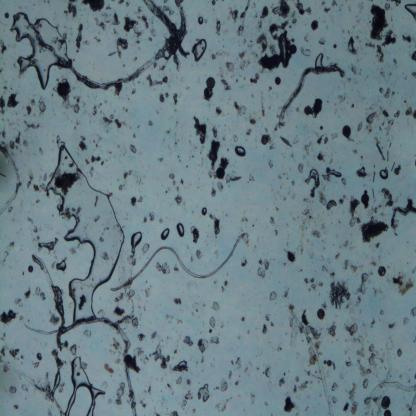Air bubble: (48, 137, 125, 314), (11, 10, 74, 88), (65, 358, 104, 414), (306, 167, 323, 190), (324, 164, 346, 181), (191, 39, 207, 62), (128, 229, 144, 250), (54, 256, 68, 274), (404, 1, 416, 21), (234, 143, 248, 159), (176, 223, 188, 239), (379, 166, 391, 182), (160, 228, 172, 240), (195, 15, 206, 28), (314, 54, 324, 68), (198, 206, 209, 217)
Background material: (290, 307, 338, 412), (258, 29, 302, 70), (365, 4, 399, 45), (361, 216, 390, 245), (52, 169, 82, 197), (353, 339, 373, 379), (148, 344, 174, 372), (327, 252, 356, 277), (373, 186, 396, 217), (343, 378, 361, 414), (330, 282, 353, 310), (235, 5, 253, 40), (378, 102, 400, 130), (24, 172, 48, 196), (391, 272, 414, 297), (303, 95, 325, 120), (0, 239, 19, 267), (191, 115, 208, 146), (53, 79, 74, 103), (354, 270, 372, 297), (301, 274, 324, 293), (304, 321, 322, 345), (207, 137, 221, 167), (211, 397, 239, 411), (144, 72, 170, 87), (233, 44, 248, 70), (297, 218, 308, 253), (256, 256, 272, 280), (272, 1, 292, 20), (61, 0, 80, 20), (102, 112, 122, 131), (81, 0, 108, 14), (114, 36, 131, 58), (114, 380, 127, 408), (128, 348, 143, 372), (266, 19, 290, 34), (291, 374, 309, 394), (37, 236, 59, 252), (75, 21, 85, 56), (347, 32, 361, 56), (123, 15, 140, 34), (6, 92, 22, 110), (344, 322, 362, 338), (108, 338, 121, 360), (354, 162, 369, 181), (196, 382, 211, 401), (0, 310, 17, 326), (29, 350, 44, 368), (23, 118, 42, 132), (139, 13, 153, 32), (367, 343, 377, 369), (142, 208, 158, 224), (93, 15, 109, 31), (212, 216, 223, 239), (378, 84, 392, 102), (35, 284, 48, 303), (171, 360, 190, 373), (233, 101, 249, 116), (155, 260, 172, 274), (297, 202, 310, 220), (224, 173, 245, 184), (375, 143, 387, 162), (181, 335, 196, 350), (12, 294, 26, 310), (89, 154, 105, 168), (196, 336, 210, 352), (258, 131, 274, 145), (347, 198, 361, 214), (376, 44, 387, 64), (7, 347, 22, 361), (294, 4, 309, 18), (303, 135, 313, 156), (181, 390, 193, 407), (122, 168, 139, 180), (0, 35, 10, 55), (110, 10, 121, 28), (283, 396, 297, 410), (326, 198, 340, 212), (366, 110, 380, 124), (316, 132, 331, 145), (249, 70, 261, 86), (284, 246, 296, 262), (222, 77, 233, 94), (322, 357, 335, 371), (129, 194, 140, 210), (264, 312, 275, 328), (260, 94, 267, 119), (220, 278, 232, 292), (259, 7, 271, 21), (126, 142, 140, 154), (224, 60, 236, 74), (404, 104, 416, 118), (104, 361, 114, 377), (81, 327, 94, 339), (277, 375, 288, 389), (300, 44, 314, 55), (220, 153, 231, 167), (212, 300, 223, 314), (113, 78, 122, 95), (214, 19, 224, 34), (339, 189, 349, 204), (174, 296, 186, 308), (171, 90, 179, 108), (192, 225, 200, 243), (116, 0, 132, 9), (247, 392, 259, 404), (329, 322, 337, 340), (309, 228, 321, 240), (210, 50, 222, 62), (37, 100, 48, 113), (236, 213, 249, 224), (318, 36, 329, 49), (401, 32, 414, 43), (239, 256, 249, 270), (317, 191, 327, 205), (268, 289, 278, 303), (395, 163, 404, 178), (316, 151, 327, 163), (210, 334, 221, 346), (219, 382, 231, 393), (0, 94, 6, 116), (173, 194, 184, 206), (72, 102, 82, 115), (388, 320, 398, 333), (168, 173, 177, 187), (194, 248, 203, 262), (296, 163, 305, 177), (78, 140, 89, 151), (206, 170, 217, 181), (157, 93, 168, 104), (262, 366, 273, 377), (340, 236, 350, 248), (101, 248, 109, 263), (155, 153, 165, 165), (144, 115, 154, 127), (50, 312, 59, 325), (137, 329, 146, 342), (261, 320, 268, 336), (0, 126, 8, 140), (208, 316, 216, 330), (370, 314, 378, 328), (396, 347, 404, 361), (90, 102, 97, 118), (351, 64, 361, 75), (214, 106, 224, 117), (9, 384, 18, 396), (116, 303, 125, 315), (345, 359, 354, 371), (15, 132, 24, 144), (311, 20, 320, 32), (393, 108, 402, 120), (150, 327, 158, 340), (2, 363, 10, 376), (282, 283, 290, 296), (129, 288, 137, 301), (338, 94, 346, 107), (349, 217, 359, 227), (402, 315, 411, 326), (27, 262, 35, 274), (272, 228, 280, 240), (409, 49, 416, 62), (227, 369, 234, 382), (0, 345, 7, 358), (235, 356, 242, 369), (25, 102, 32, 115), (407, 68, 416, 78), (366, 40, 376, 49), (73, 206, 82, 216), (93, 33, 101, 44), (9, 140, 17, 151), (185, 377, 193, 388), (247, 173, 255, 184), (384, 1, 392, 12), (268, 212, 275, 224), (31, 224, 38, 236), (332, 380, 338, 394), (70, 343, 76, 357), (409, 305, 416, 317), (318, 122, 326, 132), (13, 402, 21, 412), (391, 55, 399, 65), (169, 408, 179, 416), (142, 242, 148, 255), (134, 34, 140, 47), (357, 123, 364, 134), (321, 5, 330, 13), (25, 288, 31, 300), (330, 131, 340, 138), (218, 178, 223, 192), (265, 158, 272, 168), (179, 176, 186, 186), (210, 188, 216, 199), (38, 145, 44, 156), (290, 12, 296, 23), (176, 376, 184, 384), (307, 190, 314, 199), (146, 387, 153, 396), (249, 118, 256, 127), (367, 123, 372, 135), (129, 260, 135, 270), (239, 313, 245, 323), (212, 128, 218, 138), (94, 214, 100, 224), (245, 131, 252, 139), (4, 12, 10, 21), (393, 0, 402, 6), (331, 0, 338, 7), (310, 215, 316, 223), (320, 264, 326, 272), (136, 6, 142, 14), (131, 87, 137, 95), (391, 90, 397, 98), (370, 259, 376, 267), (175, 137, 179, 147), (131, 131, 136, 139), (134, 55, 138, 65), (288, 179, 294, 185), (354, 148, 358, 157), (332, 42, 338, 48), (163, 129, 170, 134), (349, 246, 356, 251), (350, 102, 354, 110), (322, 223, 326, 230)
Cellulose filter fibre: (27, 18, 190, 91), (23, 319, 143, 415), (277, 62, 345, 132), (29, 253, 70, 355), (143, 2, 189, 65), (0, 144, 23, 215), (365, 374, 416, 404), (390, 195, 416, 236)
Diatom: (200, 73, 217, 103), (360, 190, 372, 210), (278, 134, 293, 150), (377, 264, 388, 277), (382, 394, 392, 408), (317, 308, 327, 322), (342, 125, 352, 138), (216, 168, 225, 180), (274, 76, 283, 87), (384, 408, 392, 414)
Microfibre: (108, 234, 250, 294)
